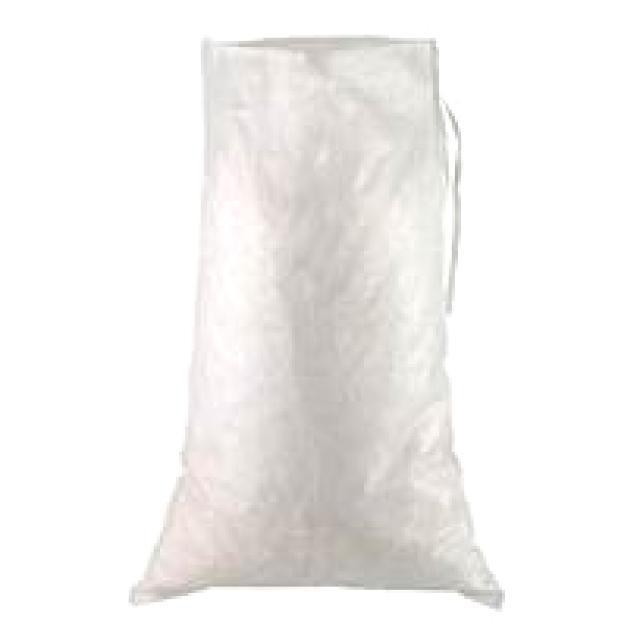gunny_bag: (130, 31, 504, 620)
